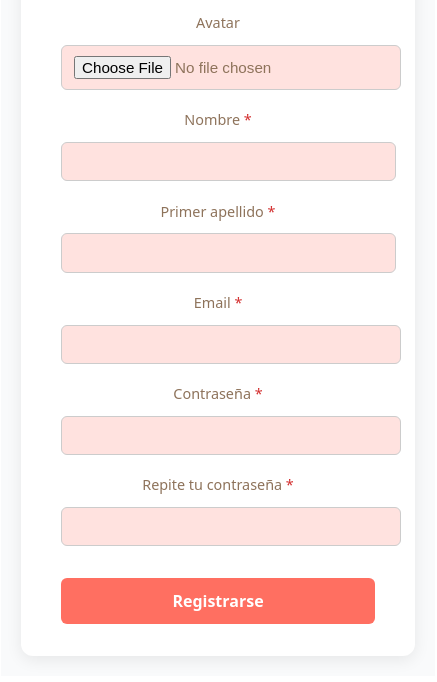
Test: RegistrationPage Component › debería mostrar errores de validación cuando se envía el formulario vacío
(page scrolled)
Click the button "Registrarse": (218, 600) [61, 578, 375, 624]
(page scrolled)
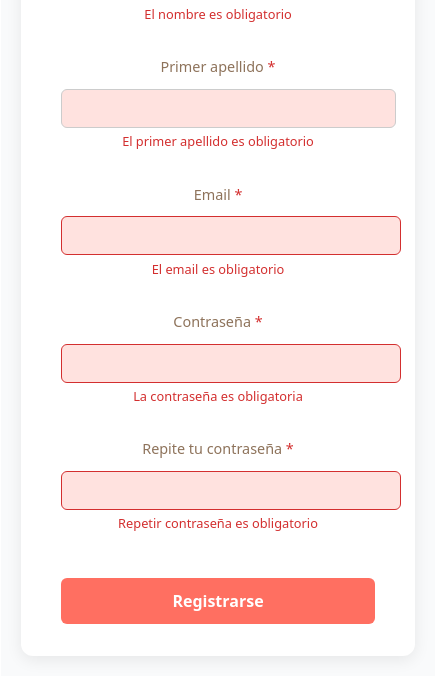
Expected: the text "El nombre es obligatorio" is shown, [144, 5, 292, 23]
Expected: the text "El primer apellido es obligatorio" is shown, [122, 132, 314, 150]
Expected: the text "El email es obligatorio" is shown, [152, 260, 284, 278]
